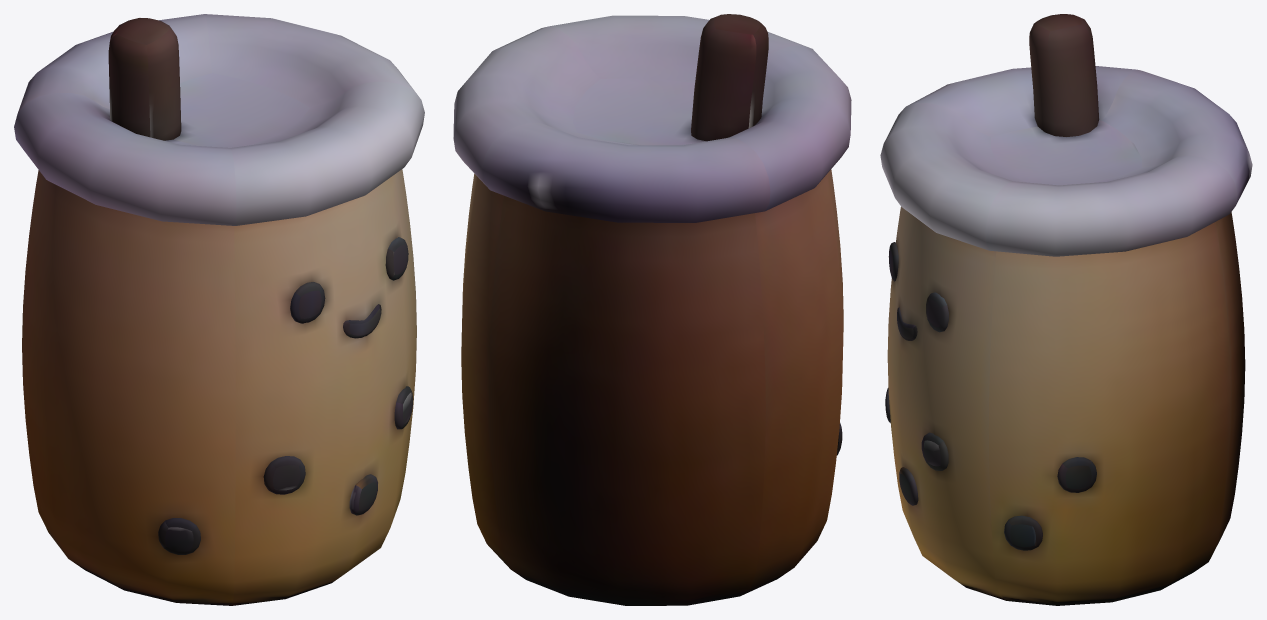
Rendered from boba-plushie.glb.
3 renders of one model, left to right at view 1: azimuth 30°, elevation 25°; view 2: azimuth 150°, elevation 25°; view 3: azimuth 270°, elevation 25°, orthographic. The views are drawn at different scales.
Visible parts, largest first — view 1: Boba_Plushie_Fourth_Raycaster_Hover; view 2: Boba_Plushie_Fourth_Raycaster_Hover; view 3: Boba_Plushie_Fourth_Raycaster_Hover.
Boxes of the visible parts, x1,y1,x2,y2 form: Boba_Plushie_Fourth_Raycaster_Hover: (14,14,424,605); Boba_Plushie_Fourth_Raycaster_Hover: (453,14,851,605); Boba_Plushie_Fourth_Raycaster_Hover: (880,14,1252,605).
Bounding box in the file's own units: 0.4414 × 0.6603 × 0.4414.
1 material, 1 textured.
